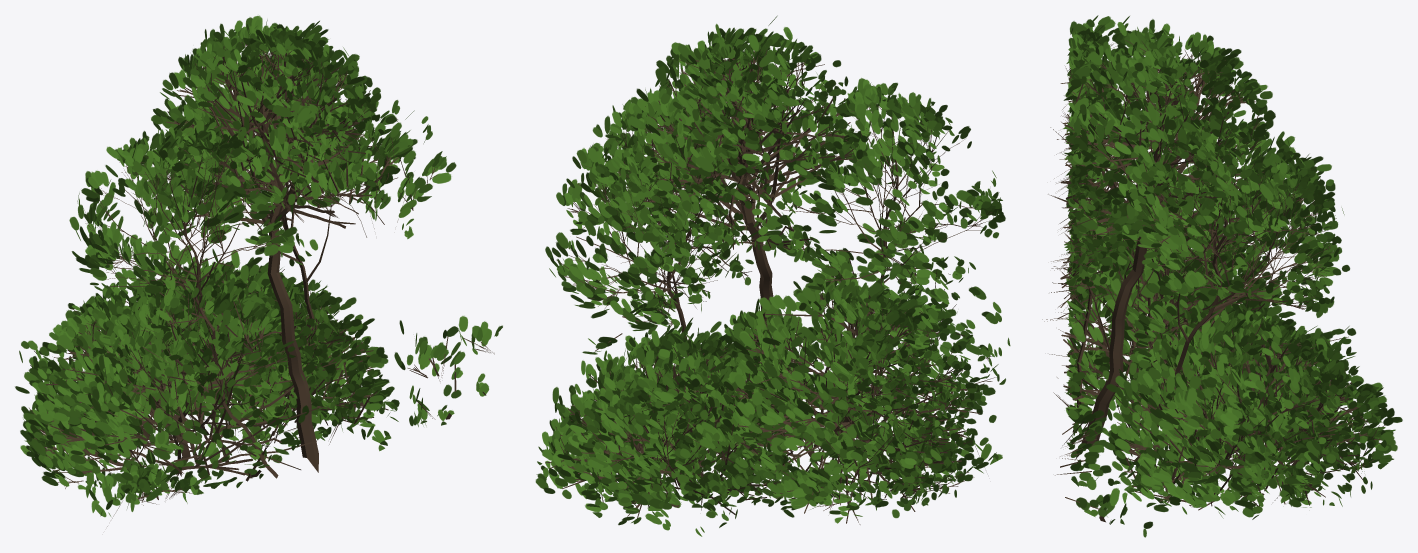
3 renders of one model, left to right at view 1: azimuth 30°, elevation 25°; view 2: azimuth 150°, elevation 25°; view 3: azimuth 270°, elevation 25°, orthographic.
Parts seen in each view (by area): view 1: oak 01.001_trunk_Mat.001_0.390; view 2: oak 01.001_trunk_Mat.001_0.390; view 3: oak 01.001_trunk_Mat.001_0.390.
Part boxes in pixels (x1=…): oak 01.001_trunk_Mat.001_0.390: x1=15, y1=15, x2=502, y2=526; oak 01.001_trunk_Mat.001_0.390: x1=535, y1=15, x2=1010, y2=536; oak 01.001_trunk_Mat.001_0.390: x1=1042, y1=15, x2=1402, y2=537.
Bounding box in the file's own units: 4.01 × 4 × 2.95.
Materials: 2 (1 with a texture image).
